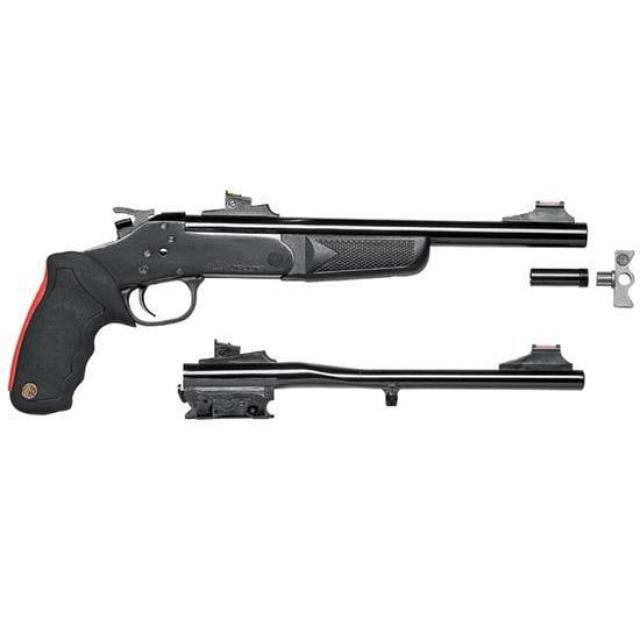gun: (3, 184, 640, 420)
